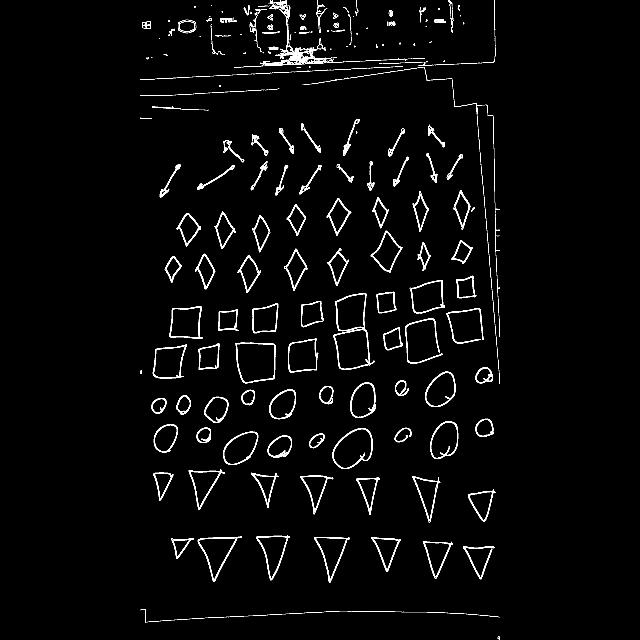arrow: (194, 166, 236, 194), (296, 120, 326, 156), (158, 160, 182, 204), (298, 164, 326, 196), (274, 127, 302, 159), (446, 150, 470, 186), (342, 113, 361, 157), (422, 118, 446, 150), (245, 130, 271, 158), (420, 151, 440, 187), (219, 138, 249, 162), (392, 155, 412, 189), (329, 160, 356, 184), (386, 125, 406, 157), (360, 158, 376, 194), (272, 162, 290, 194), (252, 159, 266, 191)
circle: (329, 432, 375, 471), (424, 371, 466, 412), (425, 418, 459, 466), (264, 387, 304, 423), (222, 428, 258, 468), (348, 380, 378, 420), (152, 423, 182, 459), (468, 412, 494, 446), (200, 392, 223, 424), (266, 432, 294, 458), (475, 362, 495, 392), (391, 376, 414, 402), (315, 384, 337, 410), (173, 393, 191, 422), (239, 388, 261, 410), (392, 426, 412, 448), (149, 395, 169, 415), (194, 427, 212, 449), (306, 433, 324, 451)
diamond: (368, 228, 404, 278), (248, 211, 276, 257), (323, 198, 355, 238), (324, 244, 351, 288), (284, 244, 308, 292), (238, 254, 264, 296), (171, 214, 203, 248), (451, 188, 474, 232), (212, 208, 236, 250), (283, 202, 309, 240), (446, 237, 478, 267), (194, 252, 218, 292), (410, 187, 430, 233), (370, 194, 390, 230), (411, 241, 431, 277), (162, 254, 182, 286)
square: (404, 318, 444, 366), (234, 340, 276, 382), (150, 343, 192, 382), (280, 338, 322, 376), (446, 309, 488, 346), (167, 302, 206, 341), (336, 330, 374, 370), (334, 290, 371, 330), (408, 274, 446, 312), (296, 298, 326, 330), (249, 303, 281, 333), (194, 342, 224, 374), (454, 274, 480, 302), (216, 306, 240, 334), (379, 325, 403, 351), (375, 289, 399, 313), (371, 331, 372, 332)
triangle: (195, 528, 245, 586), (308, 528, 358, 584), (253, 528, 290, 584), (407, 472, 445, 526), (188, 468, 228, 514), (418, 536, 456, 582), (456, 486, 496, 526), (370, 532, 402, 578), (461, 543, 495, 583), (354, 475, 384, 519), (250, 470, 276, 512), (304, 472, 326, 514), (152, 467, 176, 505), (169, 532, 193, 560)
